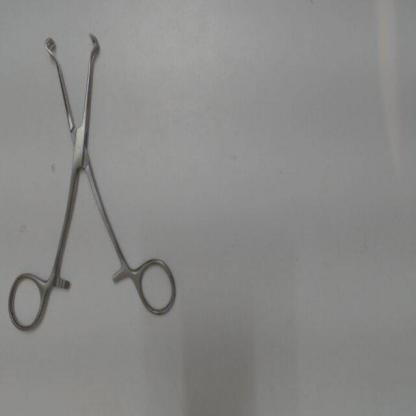Babcock Tissue Forceps: (5, 28, 182, 337)
